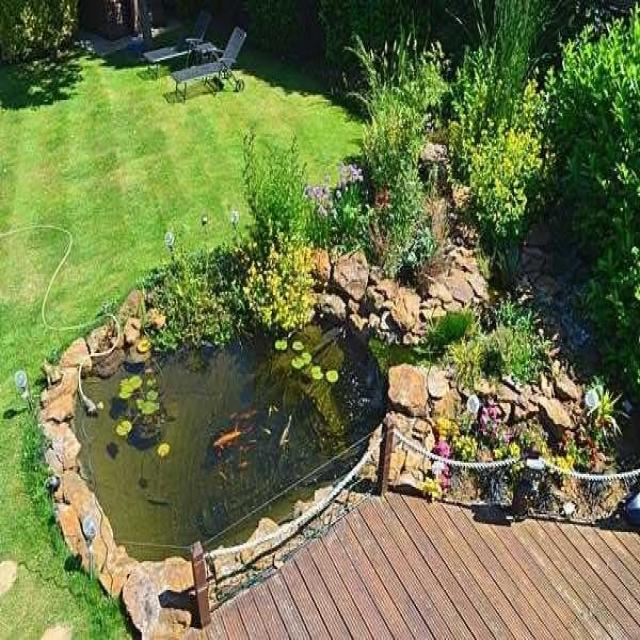Ponds: (47, 249, 580, 602)
